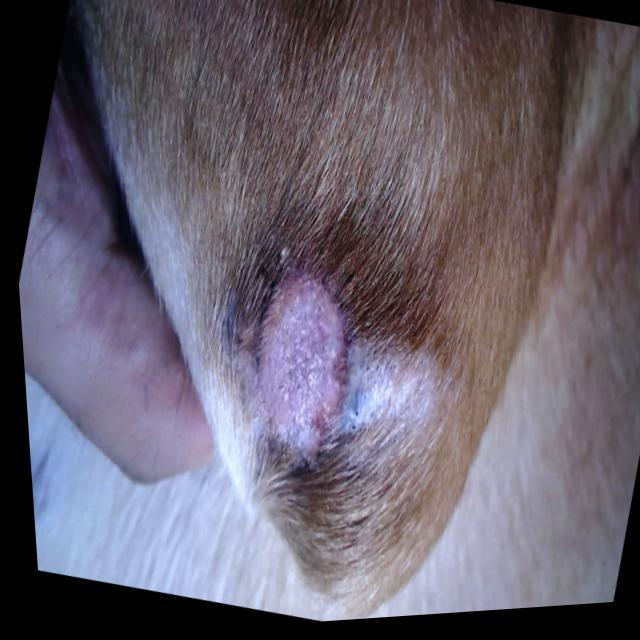ringworm: (228, 237, 379, 483)
